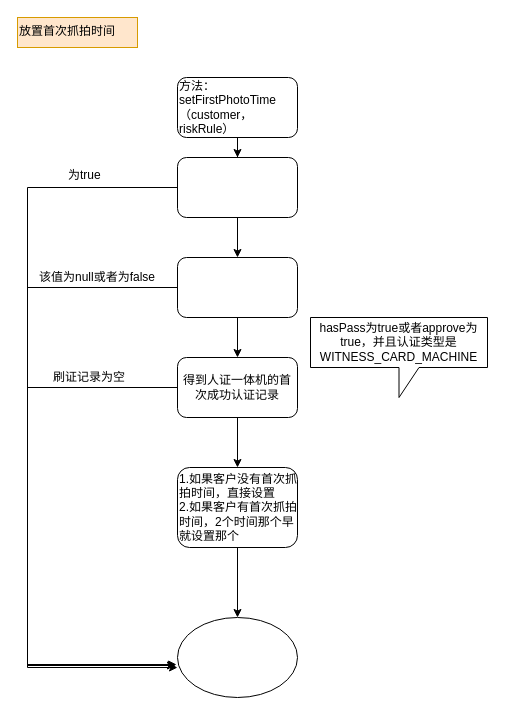
This 505x715 diagram has some shape labels left out. Each missing label, with the box of its shape:
null==riskRule: (176, 156, 298, 218)
方法结束: (176, 616, 298, 698)
是否开启允许首次刷证作为首次抓拍依据 allowFirstFreshCard: (176, 256, 298, 318)
